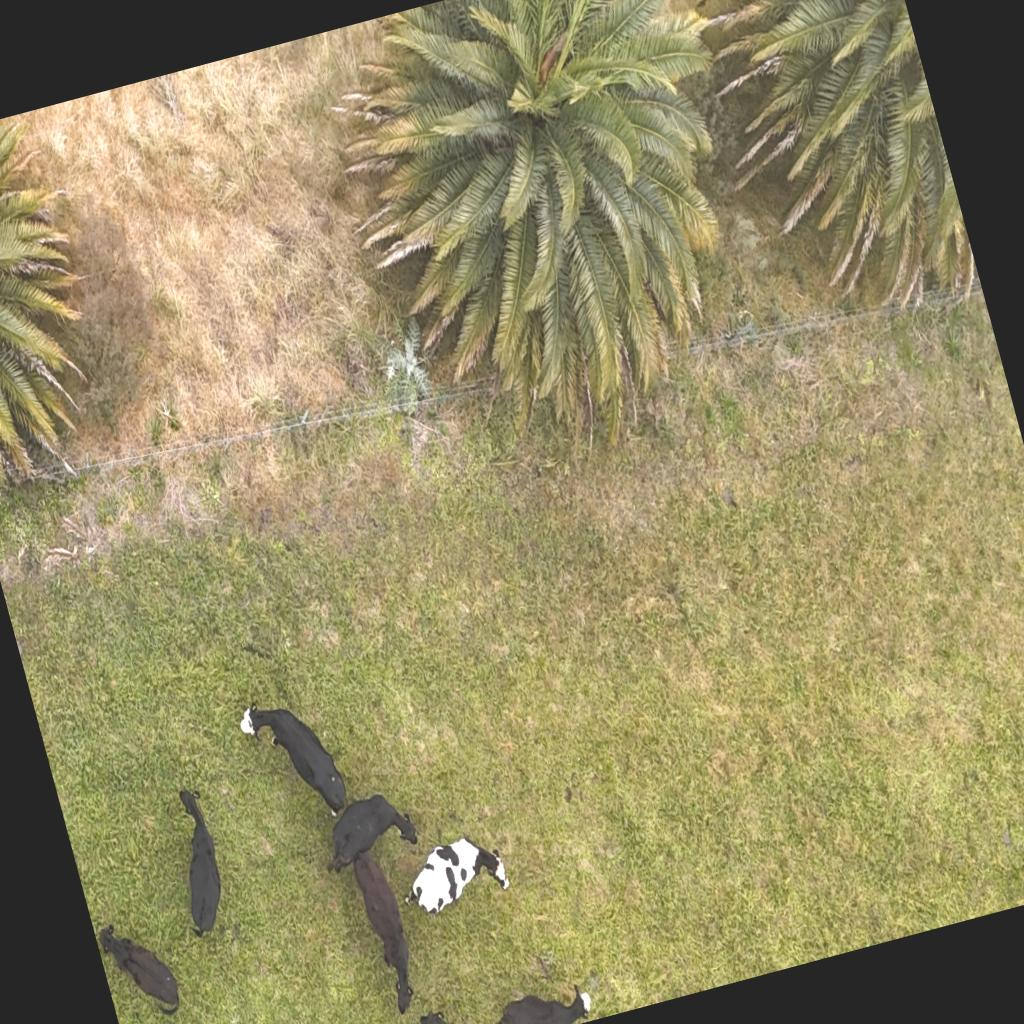cow: (332, 836, 434, 1024), (240, 686, 354, 833), (154, 777, 244, 943), (394, 826, 516, 926), (308, 781, 424, 880), (95, 910, 188, 1024), (484, 972, 598, 1024)
